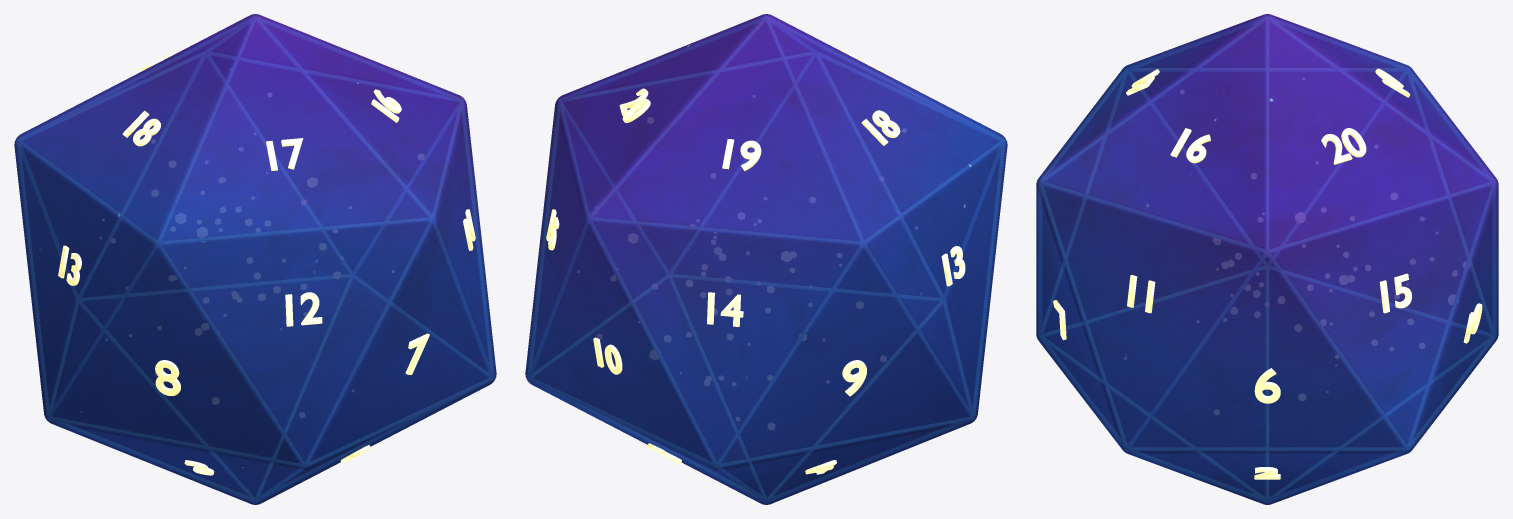
The model's file is D20_二十面骰_星穹_baked.glb.
The picture shows the model from 3 angles, left to right: view 1: azimuth 30°, elevation 25°; view 2: azimuth 150°, elevation 25°; view 3: azimuth 270°, elevation 25°; orthographic projection.
Visible parts, largest first — view 1: D20_Body_20_Faces, D20_Galaxy_Clean_Edge_Divider_v6, D20_Clustered_StarDust_v5, Face_08_Number_8, Face_12_Number_12, Face_18_Number_18, Face_17_Number_17, Face_13_Number_13; view 2: D20_Body_20_Faces, D20_Galaxy_Clean_Edge_Divider_v6, D20_Clustered_StarDust_v5, Face_18_Number_18, Face_19_Number_19, Face_14_Number_14, Face_20_Number_20, Face_10_Number_10, Face_09_Number_9, Face_13_Number_13; view 3: D20_Body_20_Faces, D20_Galaxy_Clean_Edge_Divider_v6, D20_Clustered_StarDust_v5, Face_20_Number_20, Face_16_Number_16, Face_15_Number_15, Face_06_Number_6.
Boxes of the visible parts, x1,y1,x2,y2 form: D20_Body_20_Faces: [14, 14, 496, 504]; D20_Galaxy_Clean_Edge_Divider_v6: [17, 16, 493, 502]; D20_Clustered_StarDust_v5: [102, 69, 423, 417]; Face_08_Number_8: [155, 360, 180, 395]; Face_12_Number_12: [285, 292, 322, 326]; Face_18_Number_18: [122, 110, 160, 146]; Face_17_Number_17: [266, 138, 303, 170]; Face_13_Number_13: [58, 245, 81, 285]; D20_Body_20_Faces: [525, 14, 1007, 504]; D20_Galaxy_Clean_Edge_Divider_v6: [528, 16, 1004, 502]; D20_Clustered_StarDust_v5: [578, 96, 917, 429]; Face_18_Number_18: [861, 110, 900, 145]; Face_19_Number_19: [722, 139, 761, 170]; Face_14_Number_14: [707, 292, 743, 326]; Face_20_Number_20: [619, 88, 650, 122]; Face_10_Number_10: [593, 337, 622, 374]; Face_09_Number_9: [842, 360, 866, 396]; Face_13_Number_13: [941, 246, 965, 286]; D20_Body_20_Faces: [1036, 14, 1498, 504]; D20_Galaxy_Clean_Edge_Divider_v6: [1039, 16, 1495, 502]; D20_Clustered_StarDust_v5: [1124, 78, 1465, 414]; Face_20_Number_20: [1321, 128, 1366, 164]; Face_16_Number_16: [1170, 128, 1210, 163]; Face_15_Number_15: [1379, 273, 1411, 313]; Face_06_Number_6: [1254, 368, 1280, 403].
Size of the model in its own units: 5.33 by 5.92 by 5.08.
Materials: 4 (1 with a texture image).
